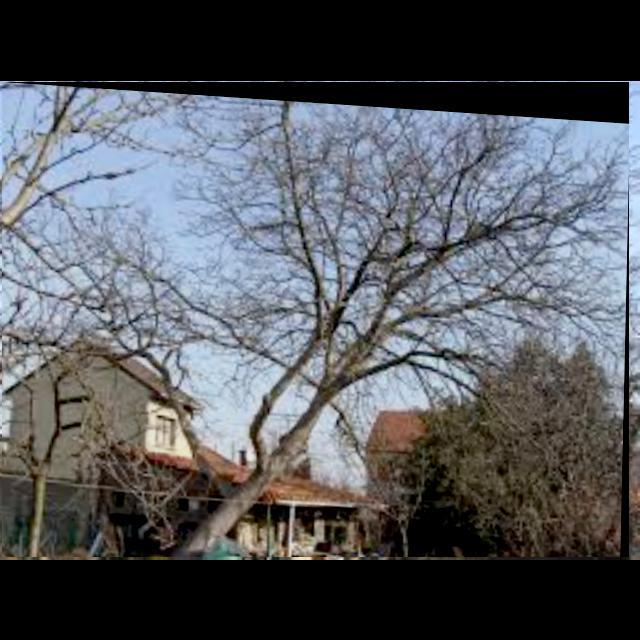fallen_tree: (2, 82, 630, 558)
